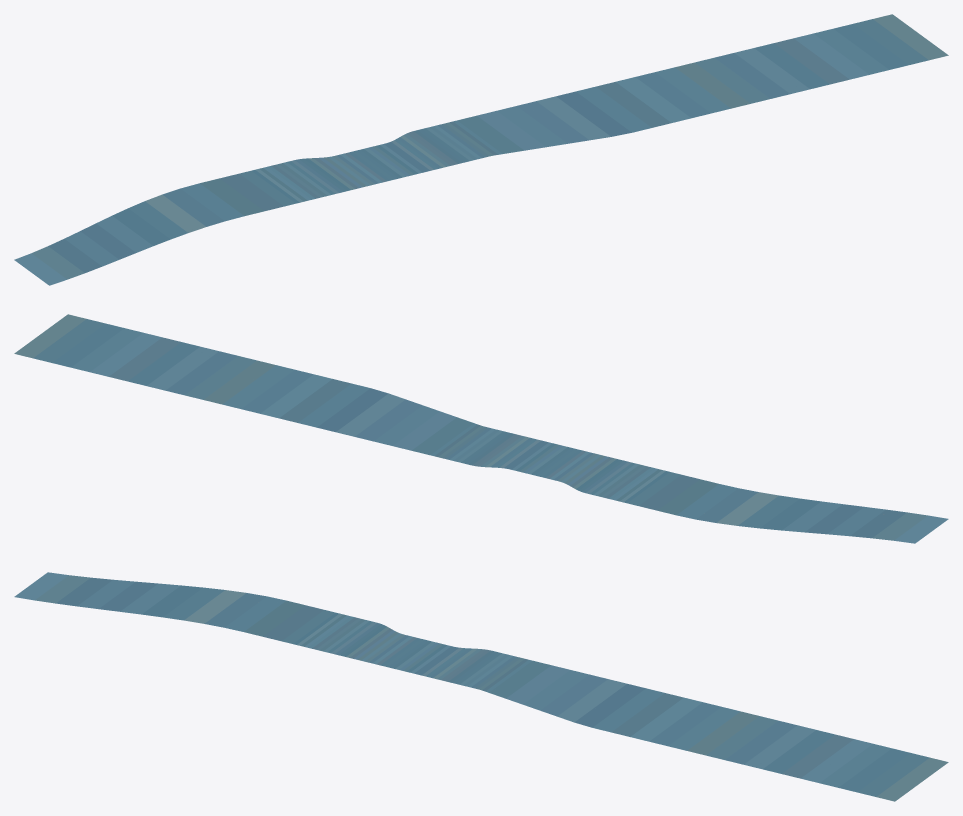
File: ART_KyobashiWater.lod.glb
3 renders of one model, top to bottom at view 1: azimuth 30°, elevation 25°; view 2: azimuth 150°, elevation 25°; view 3: azimuth 330°, elevation 25°, orthographic. The views are drawn at different scales.
Parts seen in each view (by area): view 1: ART_KyobashiWater; view 2: ART_KyobashiWater; view 3: ART_KyobashiWater.
Part boxes in pixels (x1,y1,x2,y2): ART_KyobashiWater: (14,14,948,285); ART_KyobashiWater: (14,314,948,543); ART_KyobashiWater: (14,572,948,801).
Size of the model in its own units: 460 by 0.0065 by 59.06.
